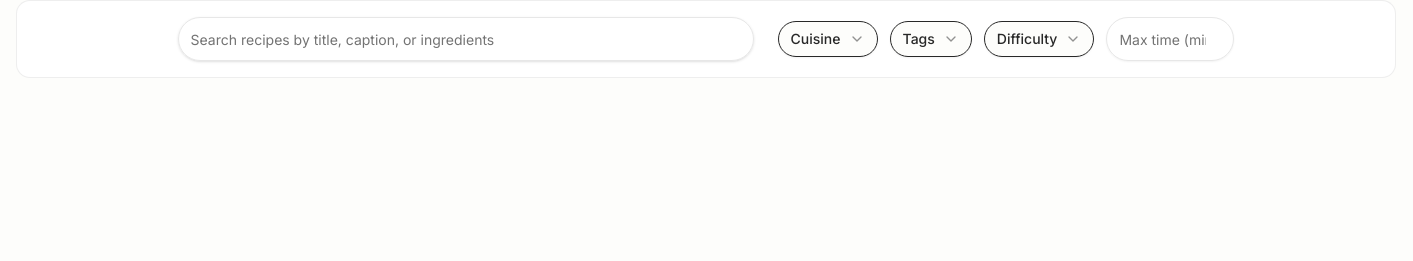
Scenario: FilterBar › clear filters › should show clear button when cuisines selected
Click the button with test id "cuisine-filter-trigger" at (828, 39), box [778,21,878,57]
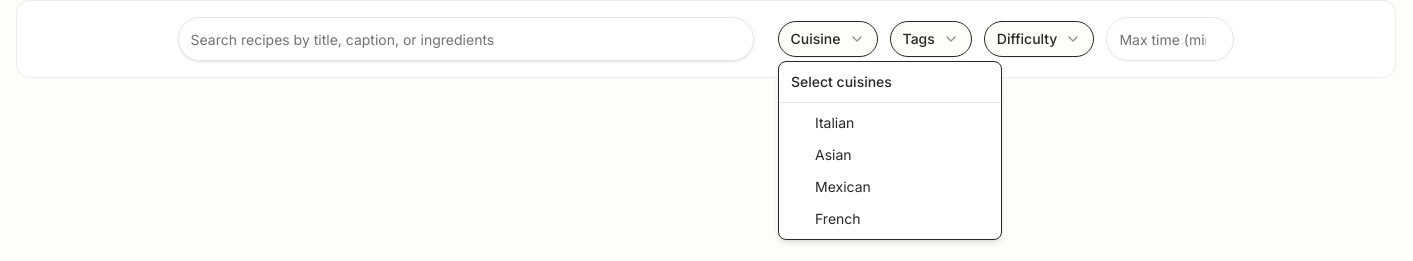
Click the menu item with test id "cuisine-option-Italian" at (835, 122), box [815,114,854,131]
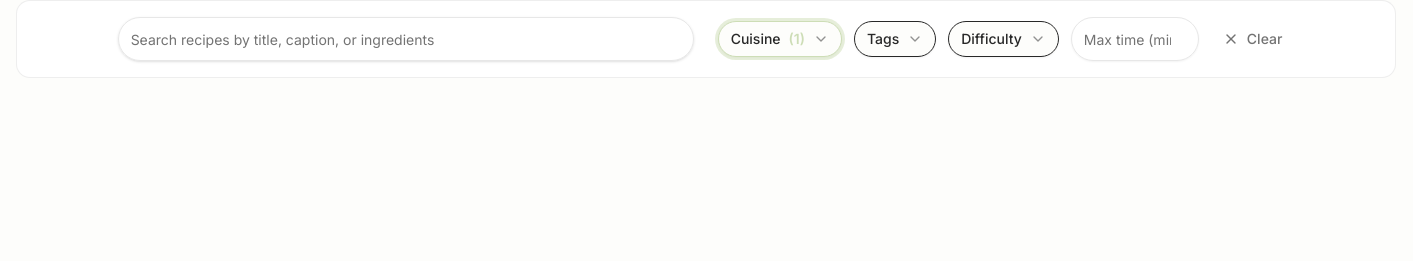
Expected: the button with test id "clear-filters-button" is shown, [1211,21,1294,57]
